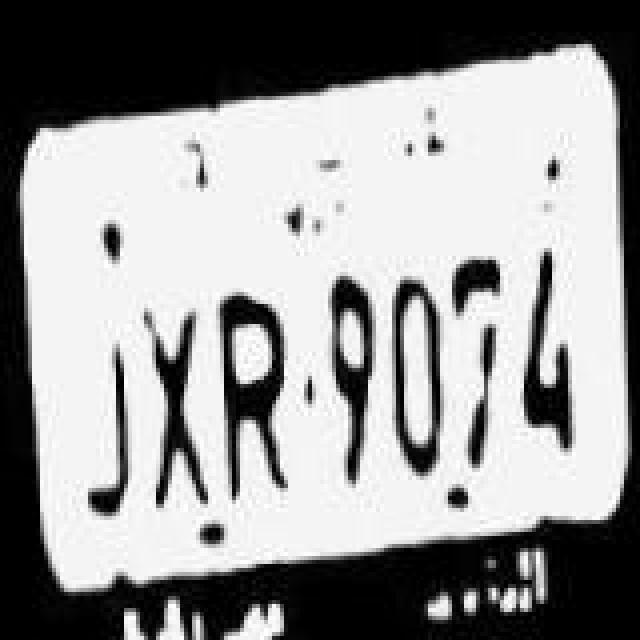4: (508, 224, 580, 460)
7: (440, 222, 512, 466)
9: (312, 254, 388, 486)
J: (62, 320, 138, 532)
O: (382, 254, 454, 482)
R: (204, 278, 296, 514)
X: (128, 294, 212, 522)
